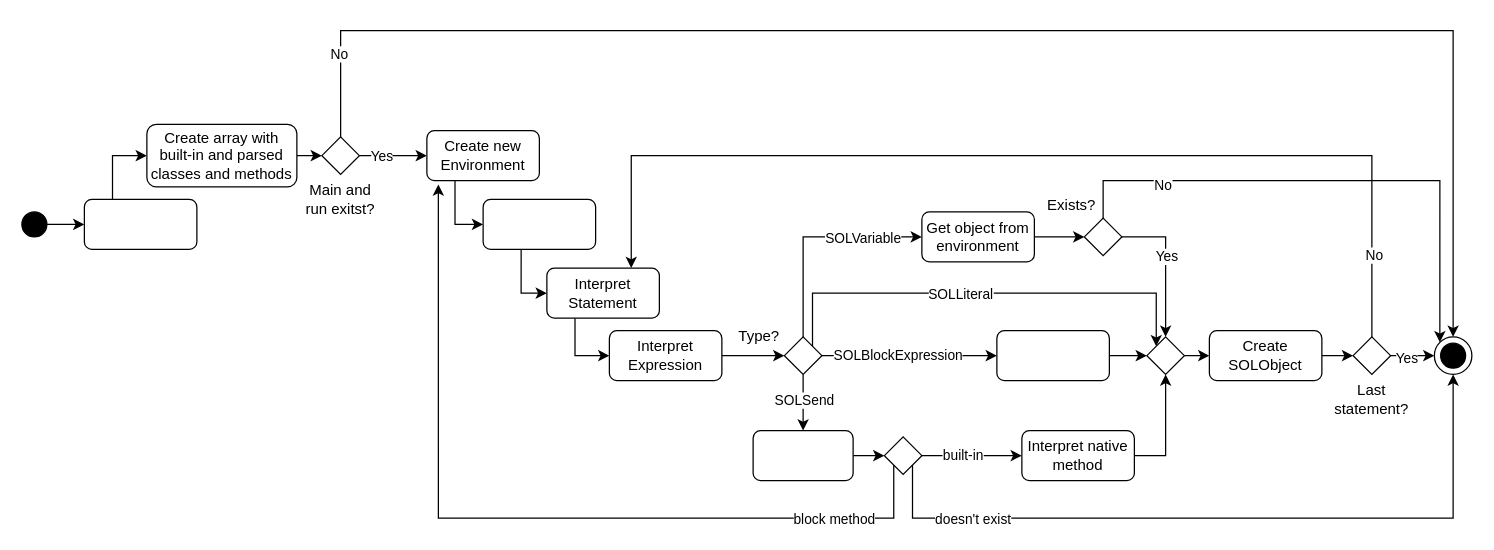
Some shapes in this 1494 by 550 pixel diagram are drawn without their labels. The shapes that lost their labels are listed below. From the top down, each one's centre as x and y in pixels, then its label:
At point 140,223: "Parse XML into AST structure".
At point 539,223: "Interpret Block".
At point 1052,355: "Instantiate block".
At point 802,455: "Find Method".
